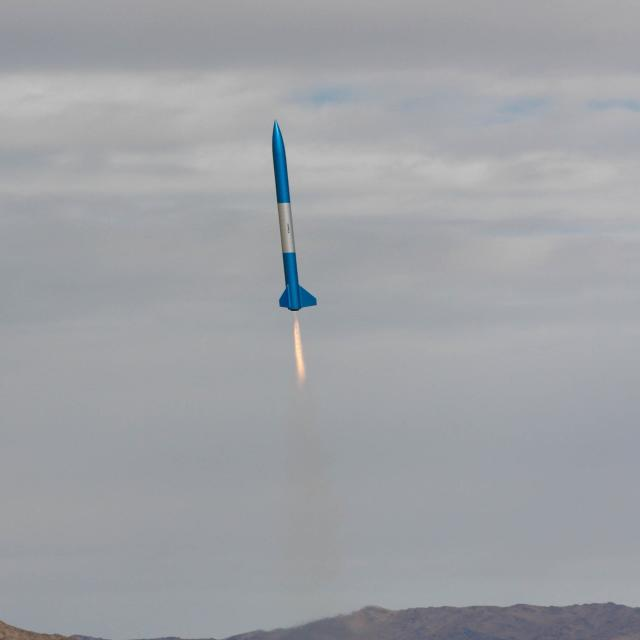Rocket: (270, 119, 318, 312)
